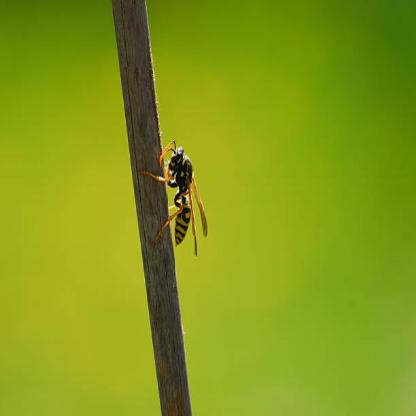sawfly: (136, 135, 210, 265)
